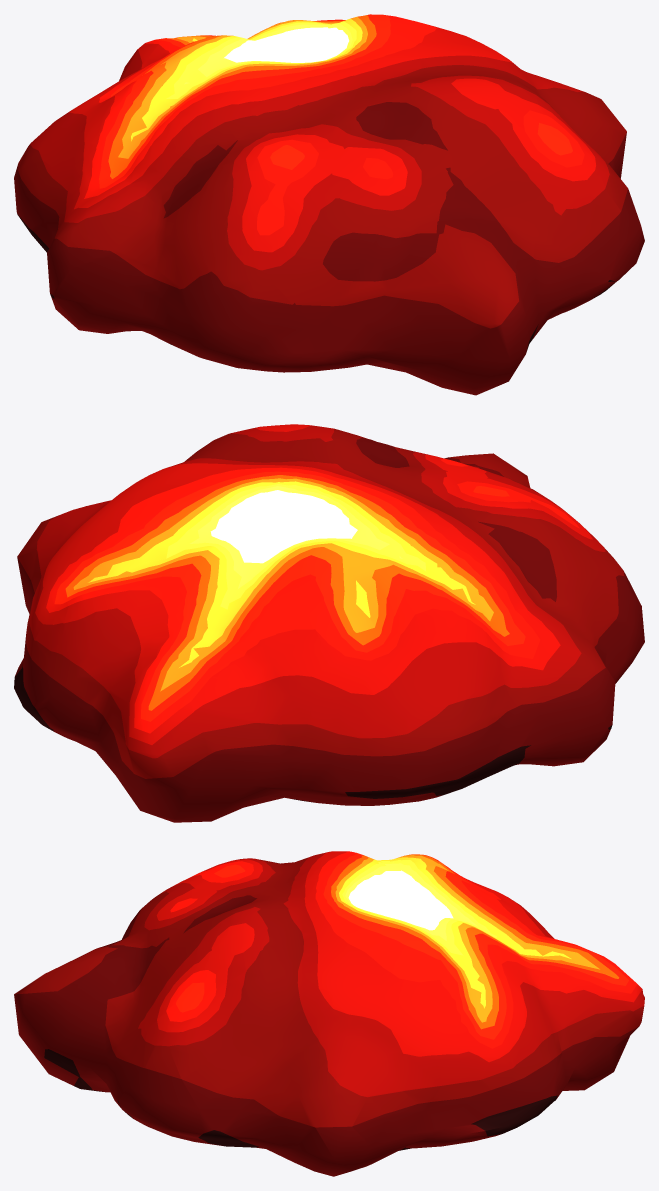
The model's file is ember.glb.
3 views of the same model, one above another, from view 1: azimuth 30°, elevation 25°; view 2: azimuth 150°, elevation 25°; view 3: azimuth 270°, elevation 25° (orthographic). The views are drawn at different scales.
Visible parts, largest first — view 1: ember; view 2: ember; view 3: ember.
Boxes of the visible parts, x1,y1,x2,y2 form: ember: (14,14,644,395); ember: (14,424,644,822); ember: (14,851,644,1176).
Bounding box in the file's own units: 11.58 × 4.52 × 12.83.
